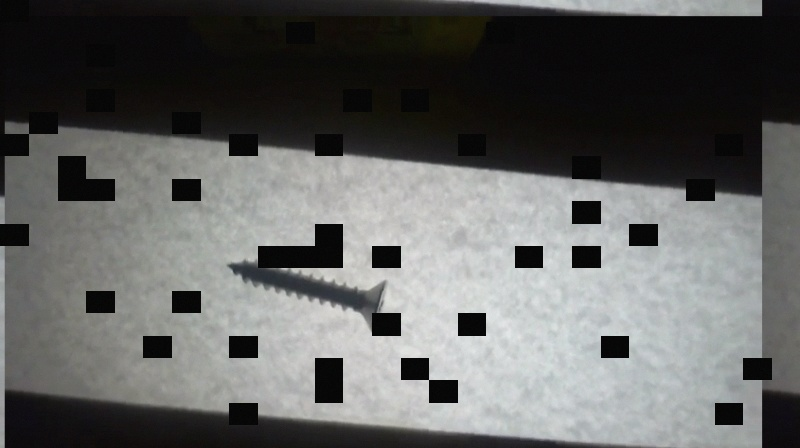S001: (221, 250, 389, 335)
